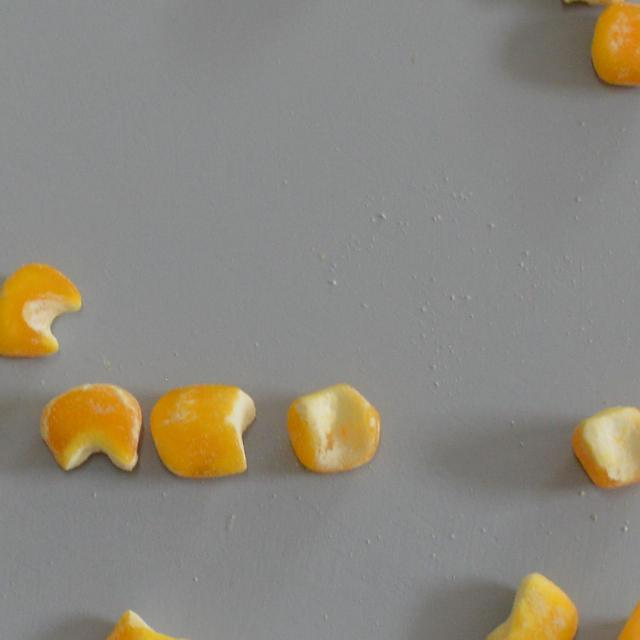no_canjicado: (0, 262, 80, 358)
pelicula: (147, 382, 256, 479), (37, 382, 143, 474), (286, 382, 382, 473), (476, 570, 580, 640), (572, 405, 640, 490), (588, 2, 640, 86), (85, 610, 206, 640), (610, 592, 640, 640)
